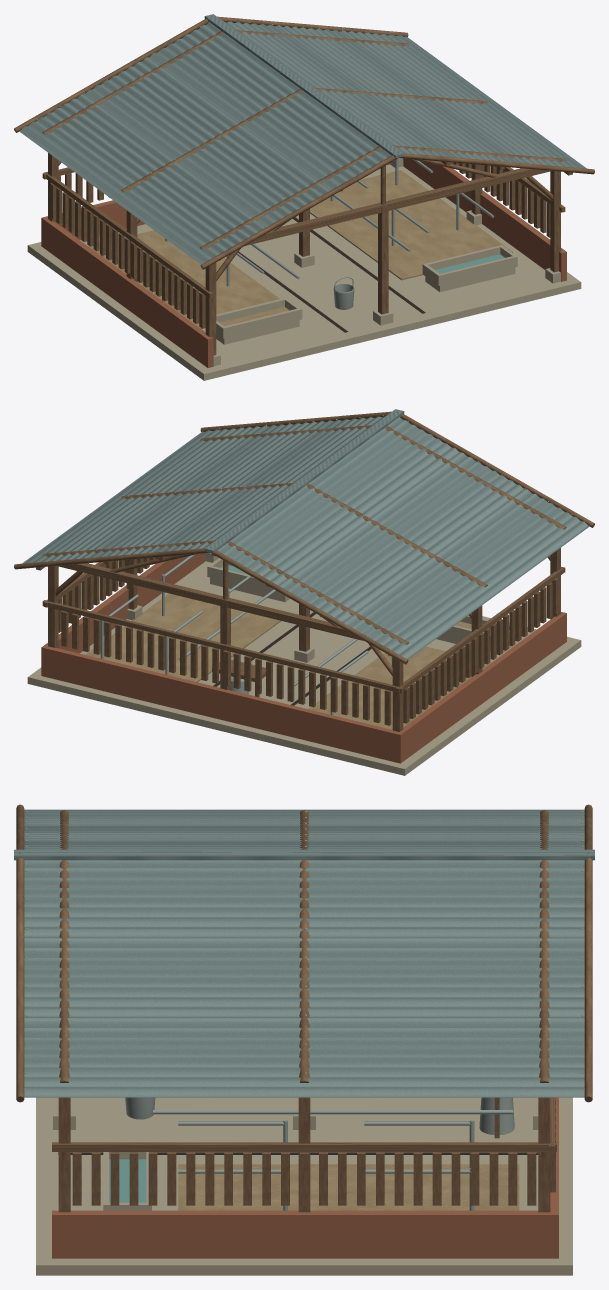
Rendered from barn.glb.
3 views of the same model, one above another, from view 1: azimuth 30°, elevation 25°; view 2: azimuth 150°, elevation 25°; view 3: azimuth 270°, elevation 25° (orthographic). The views are drawn at different scales.
Visible parts, largest first — view 1: roof_aged_galvanized_roof, foundation_slab, frame_warm_weathered_hardwood, floor_dry_rice_straw_bedding, walls_local_terracotta_brick, walls_warm_weathered_hardwood, roof_warm_weathered_hardwood, water_trough_warm_lime_concrete, feed_trough_warm_lime_concrete, stalls_brushed_galvanized_steel, frame_warm_lime_concrete, floor_dark_brown_short_coat (+1 smaller); view 2: roof_aged_galvanized_roof, walls_local_terracotta_brick, walls_warm_weathered_hardwood, foundation_slab, frame_warm_weathered_hardwood, floor_dry_rice_straw_bedding, roof_warm_weathered_hardwood, stalls_brushed_galvanized_steel, water_trough_warm_lime_concrete, feed_trough_warm_lime_concrete, frame_warm_lime_concrete; view 3: roof_aged_galvanized_roof, foundation_slab, walls_local_terracotta_brick, walls_warm_weathered_hardwood, frame_warm_weathered_hardwood, floor_dry_rice_straw_bedding, roof_warm_weathered_hardwood, stalls_brushed_galvanized_steel, water_trough_warm_lime_concrete, equipment_brushed_galvanized_steel, water_surface, floor_dark_brown_short_coat (+2 smaller).
Part boxes in pixels (<box>): roof_aged_galvanized_roof: <box>19,14,586,264</box>; foundation_slab: <box>27,164,581,380</box>; frame_warm_weathered_hardwood: <box>42,30,572,355</box>; floor_dry_rice_straw_bedding: <box>88,170,512,328</box>; walls_local_terracotta_brick: <box>41,158,566,367</box>; walls_warm_weathered_hardwood: <box>42,162,565,328</box>; roof_warm_weathered_hardwood: <box>14,16,594,269</box>; water_trough_warm_lime_concrete: <box>422,245,517,291</box>; feed_trough_warm_lime_concrete: <box>216,297,302,344</box>; stalls_brushed_galvanized_steel: <box>100,158,494,301</box>; frame_warm_lime_concrete: <box>213,158,560,365</box>; floor_dark_brown_short_coat: <box>238,217,425,332</box>; roof_aged_galvanized_roof: <box>22,409,589,659</box>; walls_local_terracotta_brick: <box>41,553,566,763</box>; walls_warm_weathered_hardwood: <box>42,557,565,725</box>; foundation_slab: <box>27,561,581,775</box>; frame_warm_weathered_hardwood: <box>36,425,566,731</box>; floor_dry_rice_straw_bedding: <box>85,593,491,729</box>; roof_warm_weathered_hardwood: <box>14,411,594,664</box>; stalls_brushed_galvanized_steel: <box>100,554,459,715</box>; water_trough_warm_lime_concrete: <box>207,558,289,601</box>; feed_trough_warm_lime_concrete: <box>436,615,511,652</box>; frame_warm_lime_concrete: <box>127,553,314,662</box>; roof_aged_galvanized_roof: <box>14,809,594,1097</box>; foundation_slab: <box>36,1097,572,1275</box>; walls_local_terracotta_brick: <box>52,1097,558,1258</box>; walls_warm_weathered_hardwood: <box>52,1097,556,1205</box>; frame_warm_weathered_hardwood: <box>58,810,550,1212</box>; floor_dry_rice_straw_bedding: <box>178,1164,519,1210</box>; roof_warm_weathered_hardwood: <box>16,804,592,1102</box>; stalls_brushed_galvanized_steel: <box>153,1110,512,1210</box>; water_trough_warm_lime_concrete: <box>103,1152,151,1210</box>; equipment_brushed_galvanized_steel: <box>479,1097,514,1134</box>; water_surface: <box>109,1159,146,1202</box>; floor_dark_brown_short_coat: <box>58,1152,538,1154</box>.
Size of the model in its own units: 10.94 by 4.94 by 9.2.
Materials: 8 (3 with a texture image).
